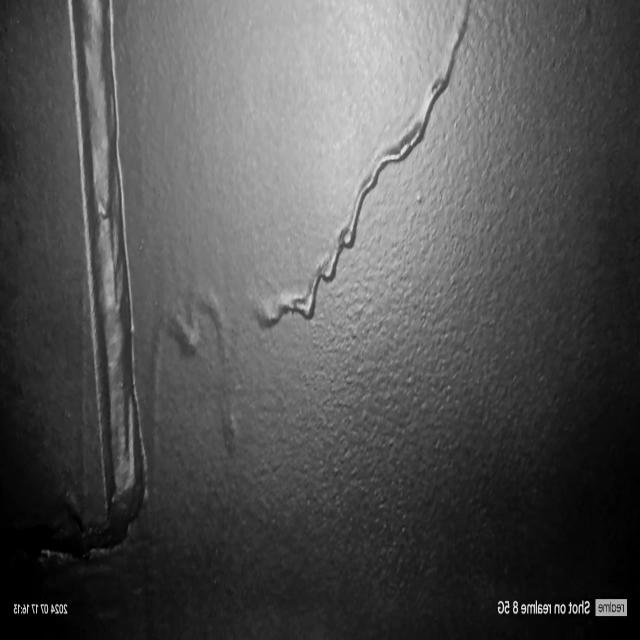paint drips: (249, 0, 478, 342), (141, 283, 243, 518)
